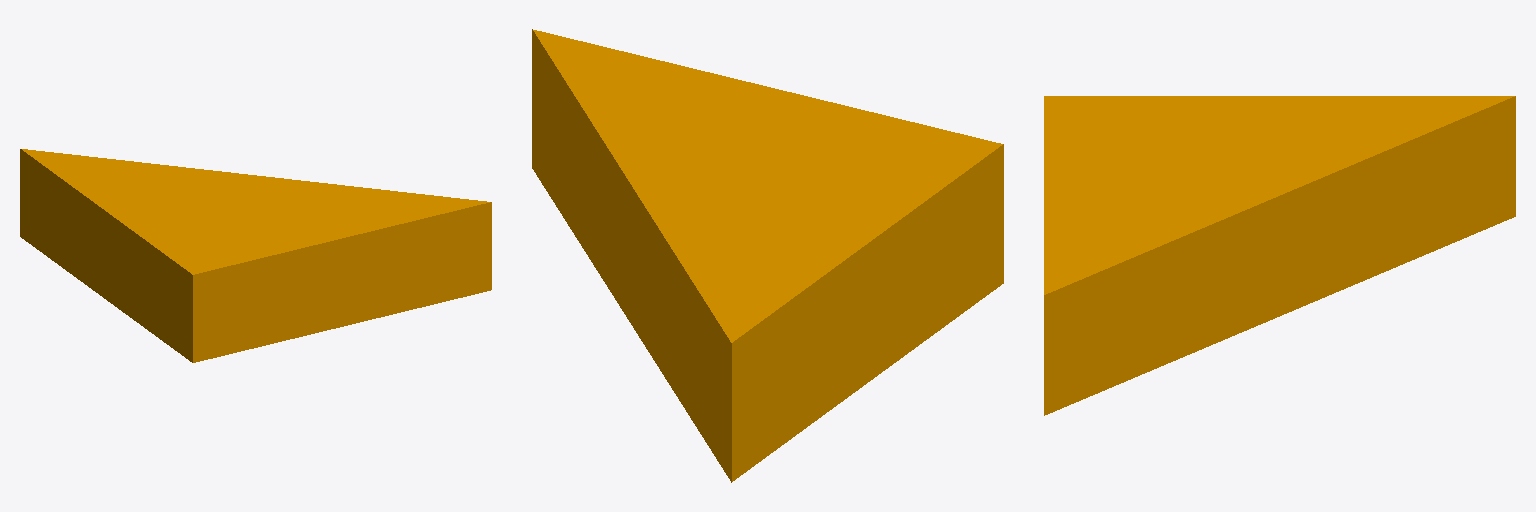
robot.urdf — s:
<robot name="s">
    <link name="s">
        <contact>
            <lateral_friction value="0.1" />
        </contact>
        <inertial>
            <origin xyz="0 0 -0.1" rpy="0 0 0" />
            <mass value="0.2" />
            <inertia ixx="0" ixy="0" ixz="0" iyy="0" iyz="0" izz="0" />
        </inertial>
        <visual>
            <origin xyz="0 0 0" rpy="0 0 0" />
            <geometry>
                <mesh filename="7.stl" scale="0.001 0.001 0.001"/>
            </geometry>
        </visual>
        <collision>
            <origin xyz="0 0 0" rpy="0 0 0" />
            <geometry>
               <mesh filename="7.stl" scale="0.001 0.001 0.001"/>
            </geometry>
        </collision>
    </link>
</robot>

--- What the picture shows (computed from the rendered views, not written in the file) ---
The picture shows the robot from 3 angles, left to right: view 1: azimuth 30°, elevation 25°; view 2: azimuth 150°, elevation 25°; view 3: azimuth 270°, elevation 25°; orthographic projection.
Model s with 1 links and 0 joints (none), rooted at s, posed every joint at zero.
Links seen in each view (by area): view 1: s; view 2: s; view 3: s.
Boxes of the visible links, x1,y1,x2,y2 form: s: [20, 149, 491, 362]; s: [532, 29, 1003, 482]; s: [1044, 96, 1515, 415].
Size in the robot's own frame: 0.0354 by 0.0354 by 0.01 metres.
Meshes: 1 distinct files referenced, 1 mesh visuals loaded (1 binary STL).